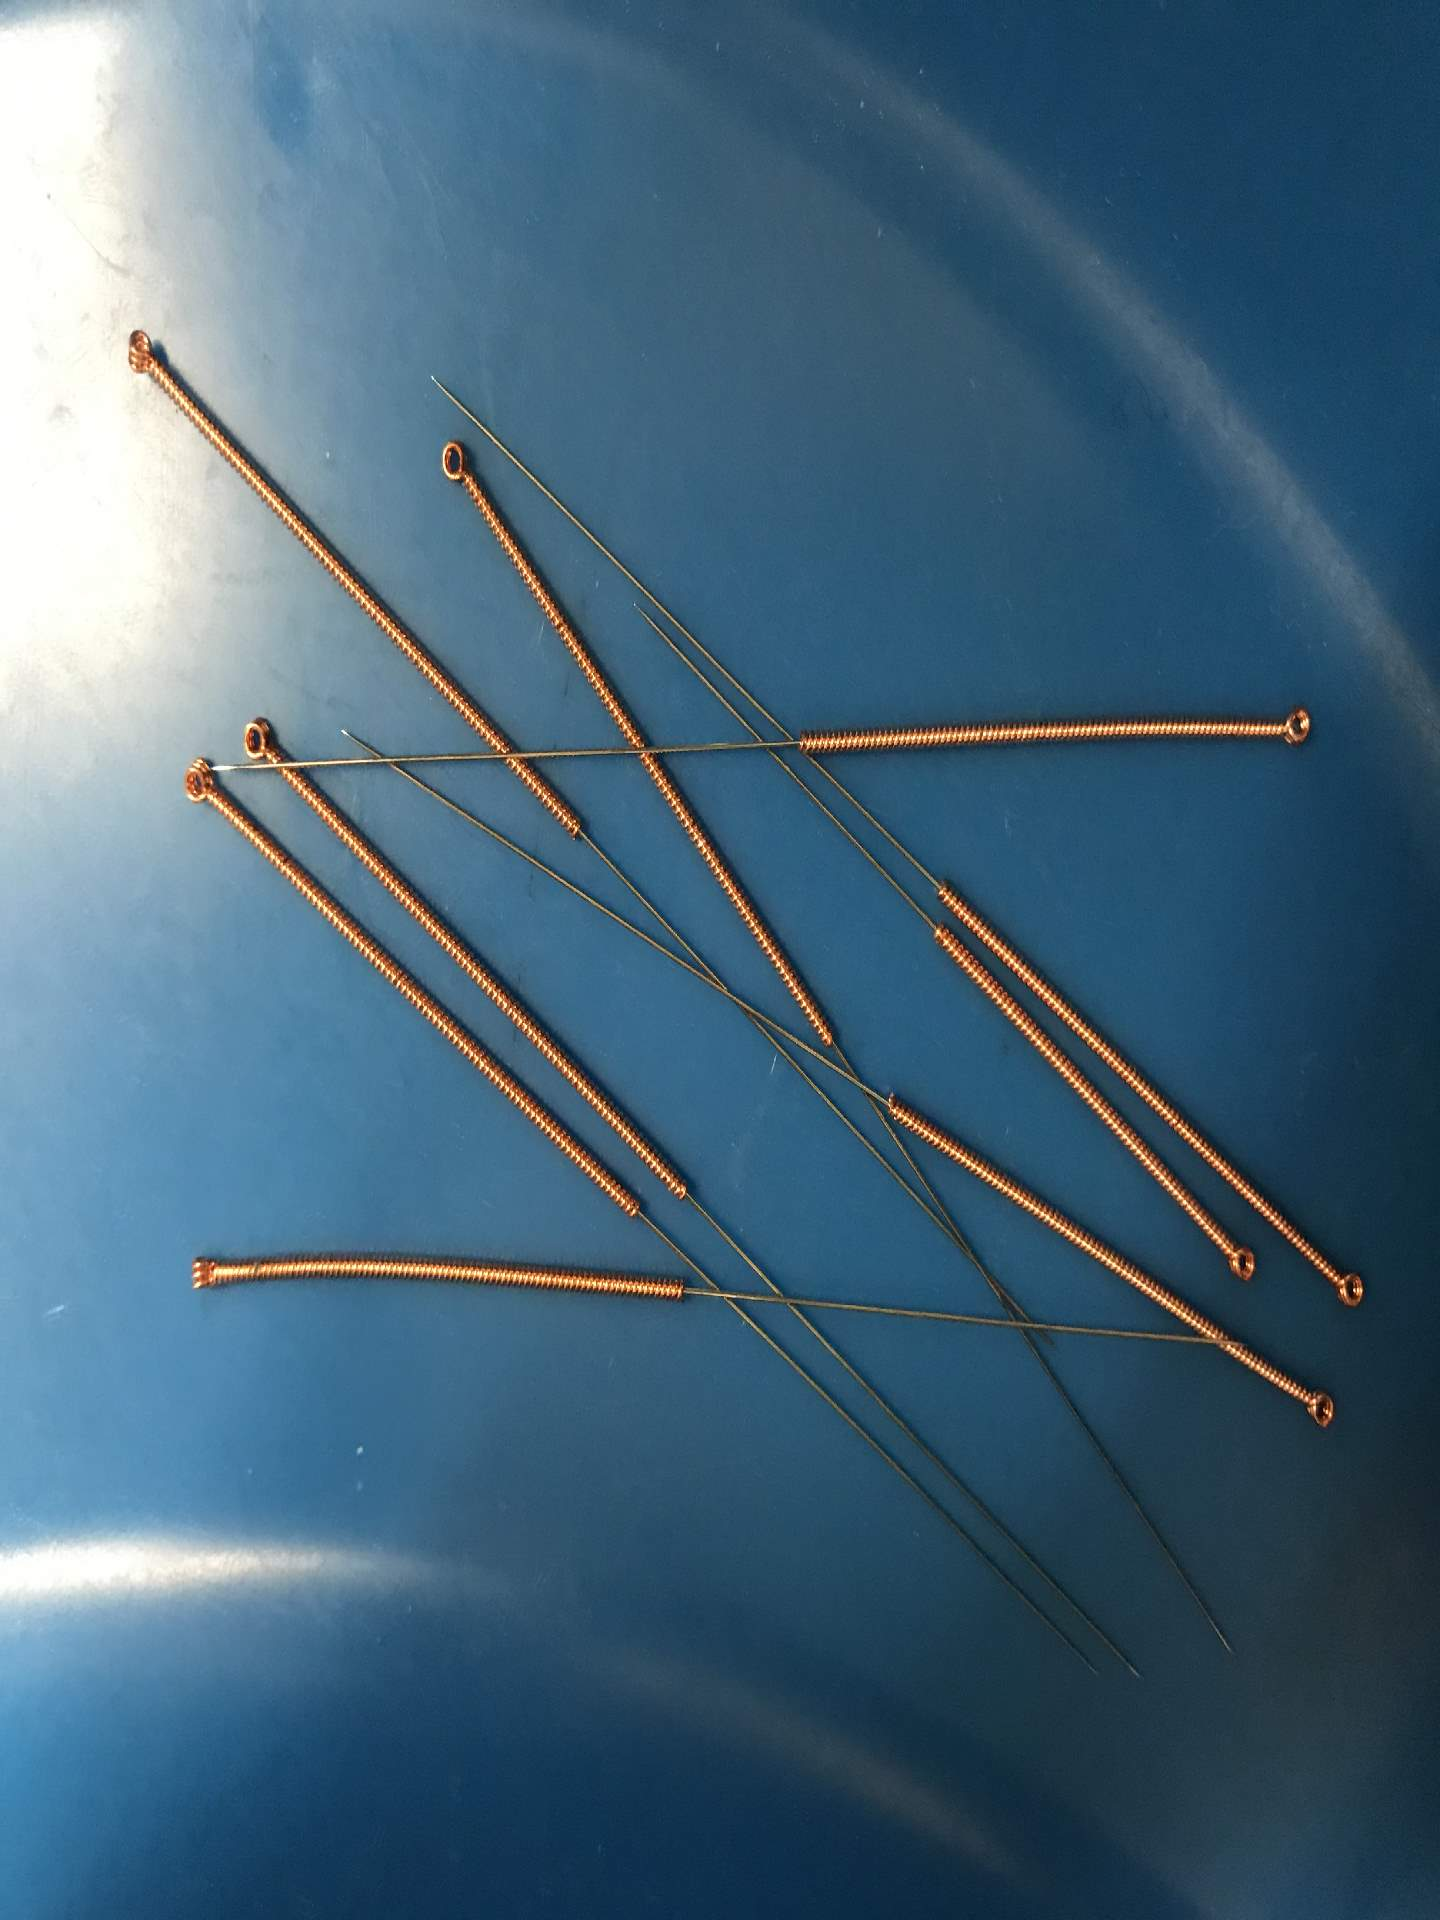needle: (166, 747, 234, 819), (1260, 692, 1327, 763), (425, 426, 484, 506), (174, 1238, 239, 1311), (110, 313, 172, 389), (228, 708, 292, 780), (1290, 1370, 1346, 1439), (1321, 1256, 1378, 1321), (1212, 1226, 1266, 1293)
